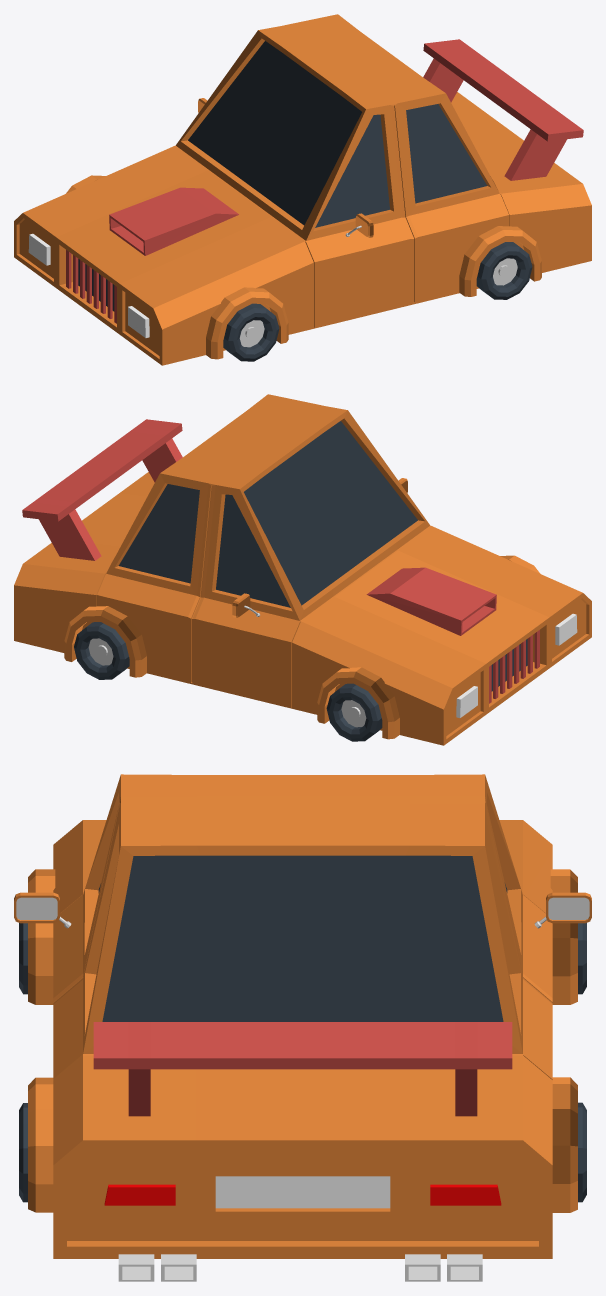
Rendered from orange_car.fbx.
The picture shows the model from 3 angles, top to bottom: view 1: azimuth 30°, elevation 25°; view 2: azimuth 150°, elevation 25°; view 3: azimuth 270°, elevation 25°; orthographic projection. The views are drawn at different scales.
Parts seen in each view (by area): view 1: orange_car; view 2: orange_car; view 3: orange_car.
Boxes of the visible parts, x1=… form: orange_car: x1=14, y1=14, x2=591, y2=365; orange_car: x1=14, y1=394, x2=591, y2=745; orange_car: x1=14, y1=774, x2=591, y2=1281.
Size of the model in its own units: 331 by 141 by 222.
Materials: 1 (1 with a texture image).
